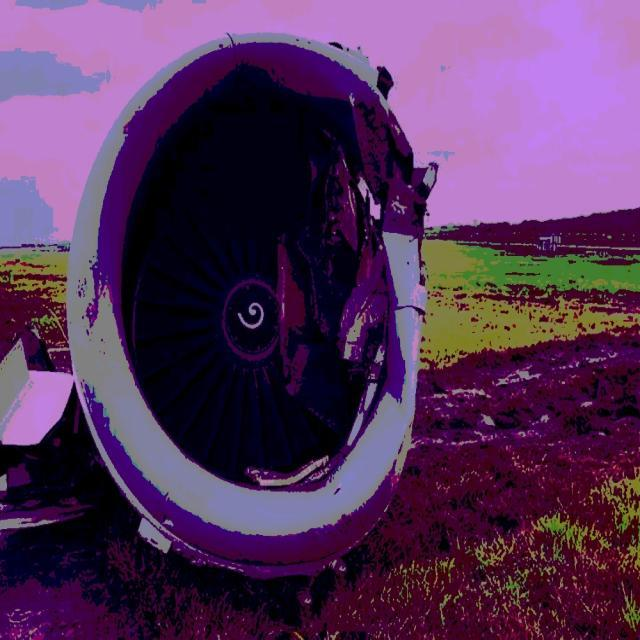dent: (387, 333, 412, 441), (380, 207, 431, 258)
